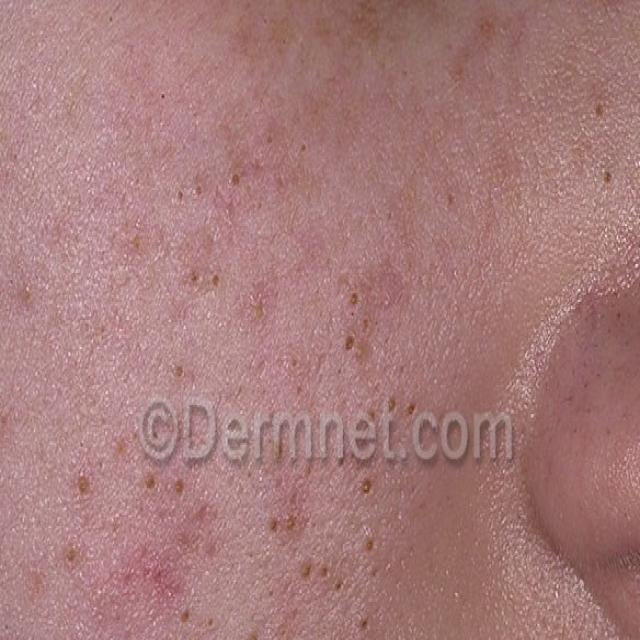Acne: (30, 408, 440, 640), (123, 142, 429, 380)
